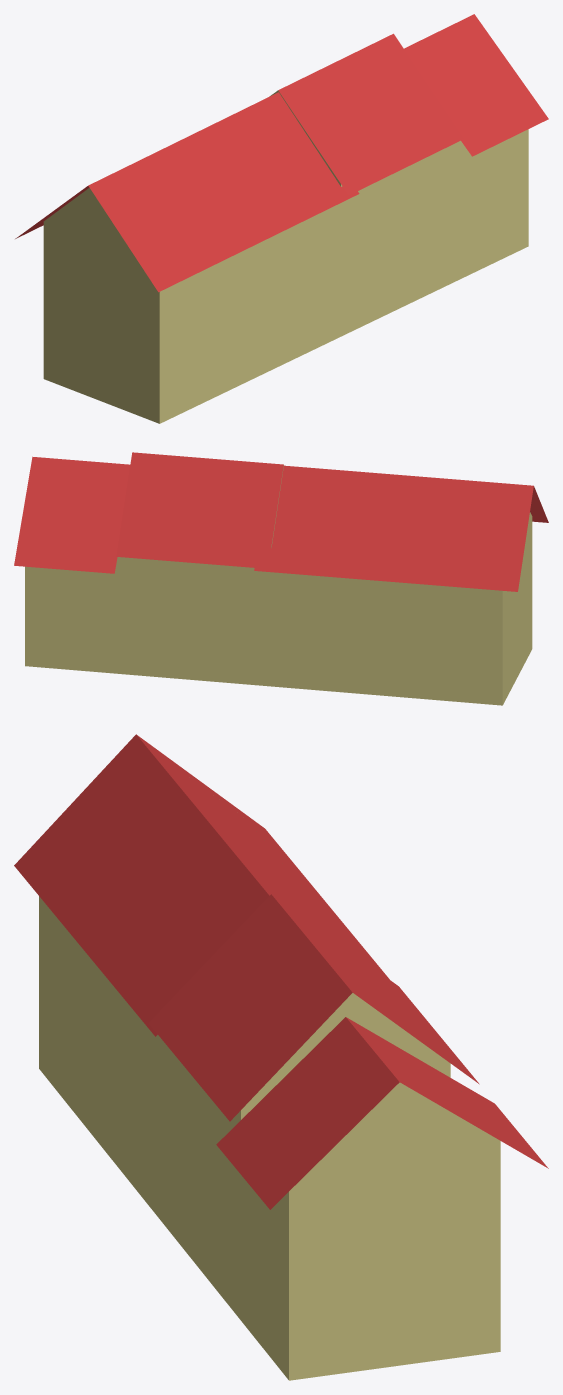
3 views of the same model, one above another, from view 1: azimuth 30°, elevation 25°; view 2: azimuth 150°, elevation 25°; view 3: azimuth 270°, elevation 25° (orthographic). The views are drawn at different scales.
Size of the model in its own units: 36.12 by 22.35 by 14.37.
